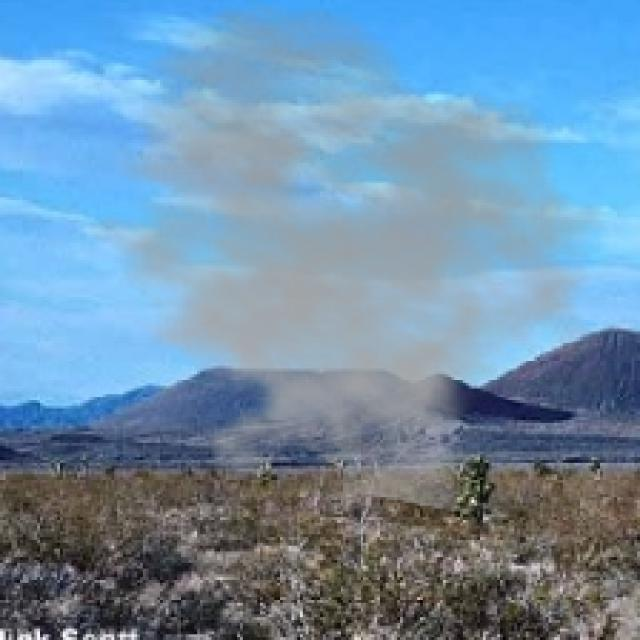smoke: (62, 0, 612, 515)
